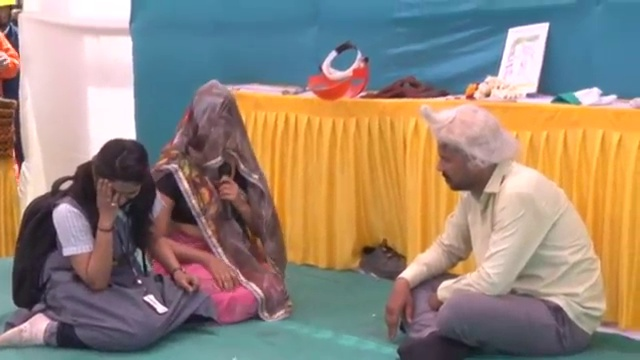helmet_off: (427, 102, 511, 201), (183, 82, 244, 158), (87, 137, 151, 208), (0, 2, 22, 31)
person: (383, 102, 604, 360), (4, 137, 209, 353), (135, 82, 284, 318), (0, 1, 22, 101)
